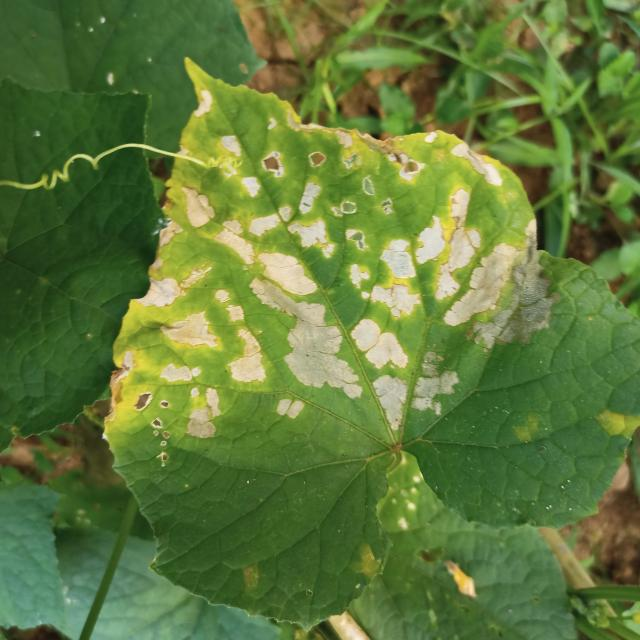disease_cucumber: (90, 96, 553, 430), (585, 398, 640, 448)
